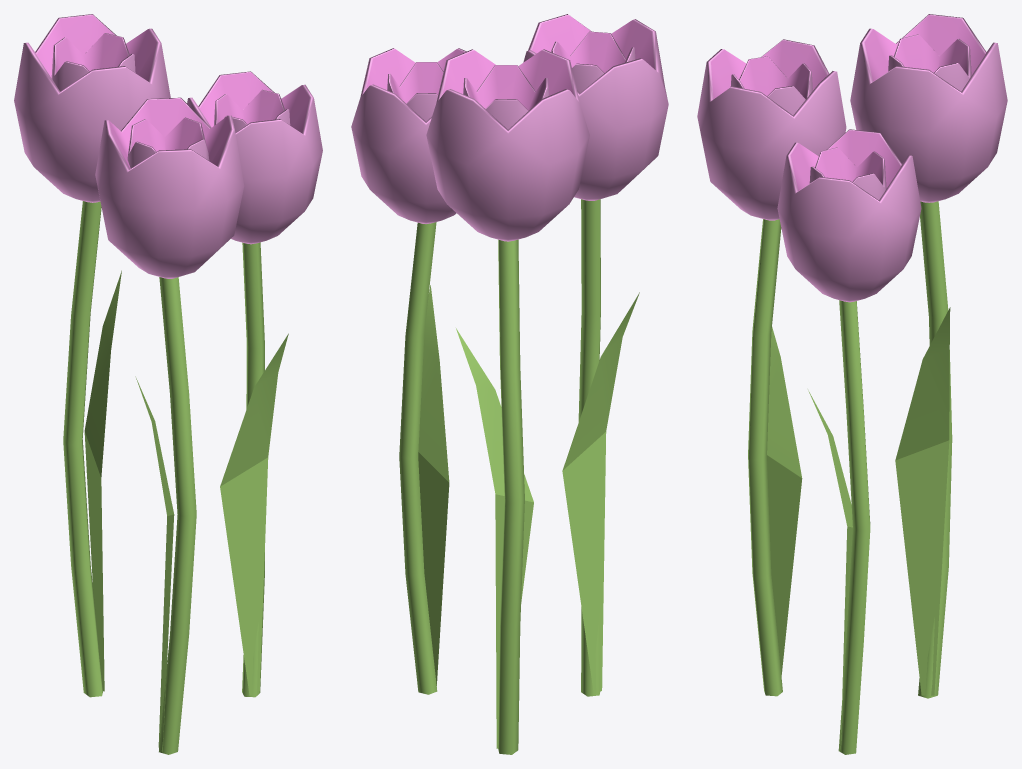
Rendered from flowers02_pink.fbx.
The picture shows the model from 3 angles, left to right: view 1: azimuth 30°, elevation 25°; view 2: azimuth 150°, elevation 25°; view 3: azimuth 270°, elevation 25°; orthographic projection. The views are drawn at different scales.
Parts seen in each view (by area): view 1: flowers02_pink; view 2: flowers02_pink; view 3: flowers02_pink.
Part boxes in pixels (x1,y1,x2,y2): flowers02_pink: (14,14,322,754); flowers02_pink: (351,14,668,754); flowers02_pink: (697,14,1007,754).
Size of the model in its own units: 0.4982 by 1.24 by 0.5373.
Materials: 1 (1 with a texture image).
